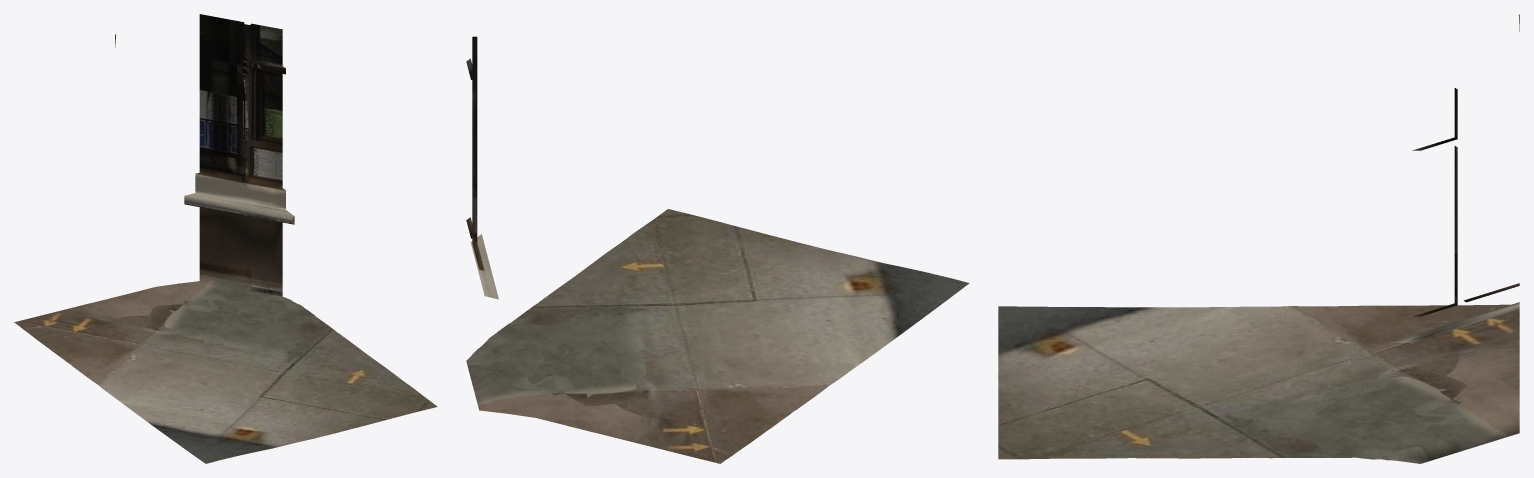
3 views of the same model, side by side, from view 1: azimuth 30°, elevation 25°; view 2: azimuth 150°, elevation 25°; view 3: azimuth 270°, elevation 25° (orthographic). The views are drawn at different scales.
Bounding box in the file's own units: 2.45 × 2.7 × 3.51.
Materials: 1 (1 with a texture image).
